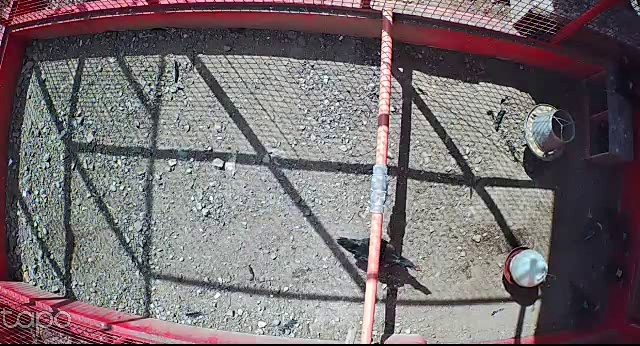Chicken: (333, 233, 421, 272), (564, 278, 606, 335)
Drinker: (501, 246, 549, 289)
Feeder: (521, 101, 579, 165)
